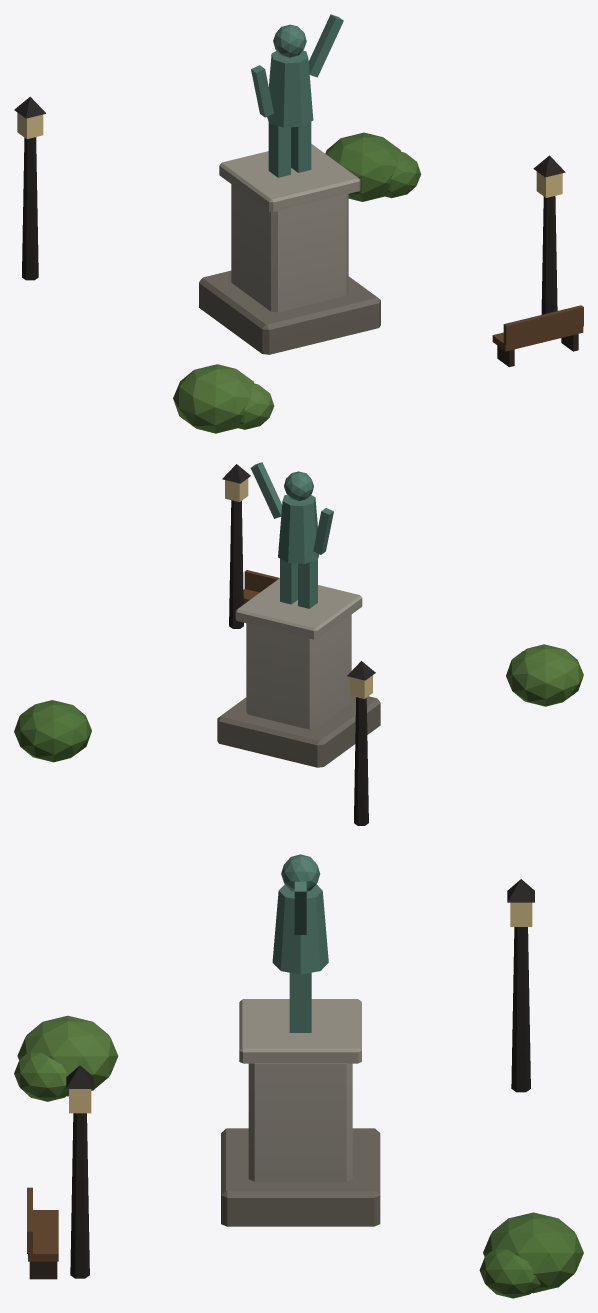
Rendered from statue.glb.
The picture shows the model from 3 angles, top to bottom: view 1: azimuth 30°, elevation 25°; view 2: azimuth 150°, elevation 25°; view 3: azimuth 270°, elevation 25°; orthographic projection. The views are drawn at different scales.
Parts seen in each view (by area): view 1: statue_model; view 2: statue_model; view 3: statue_model.
Part boxes in pixels (box(x1,y1,x2,y2)): statue_model: box(14, 14, 583, 433); statue_model: box(14, 462, 583, 825); statue_model: box(14, 854, 583, 1298).
Size of the model in its own units: 0.9415 by 0.607 by 0.9305.
